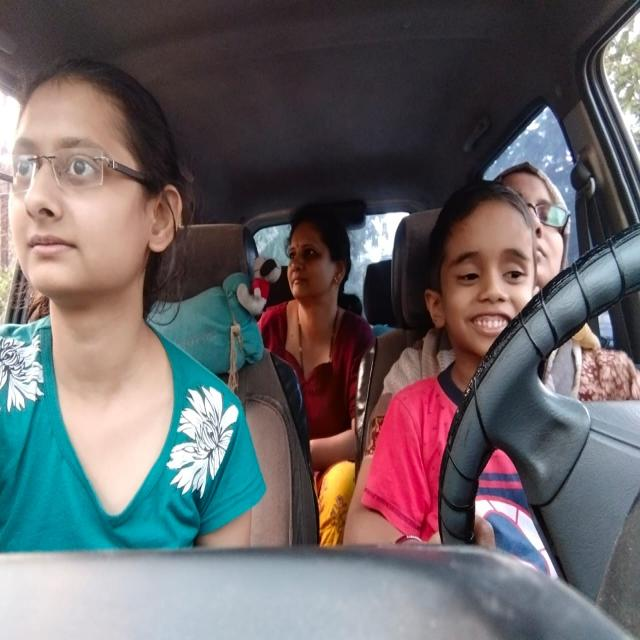child: (414, 158, 537, 390)
person: (0, 49, 194, 346), (263, 196, 361, 327), (525, 159, 586, 272)
